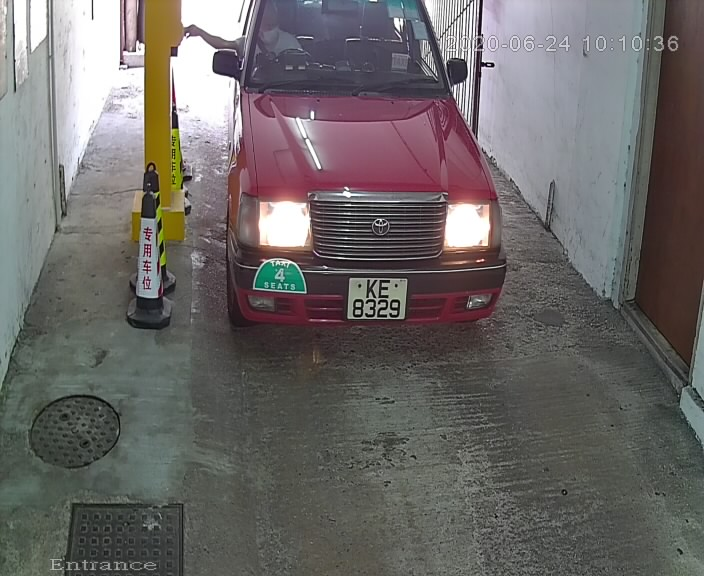Car: (210, 1, 519, 360)
License Plate: (345, 275, 411, 323)
